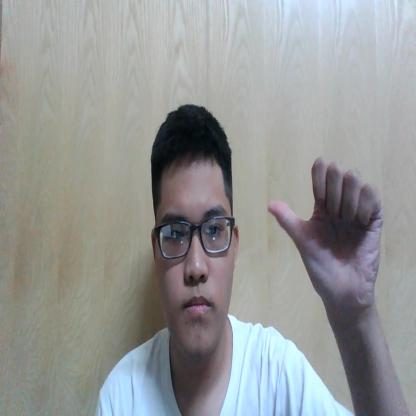right: (267, 160, 386, 300)
